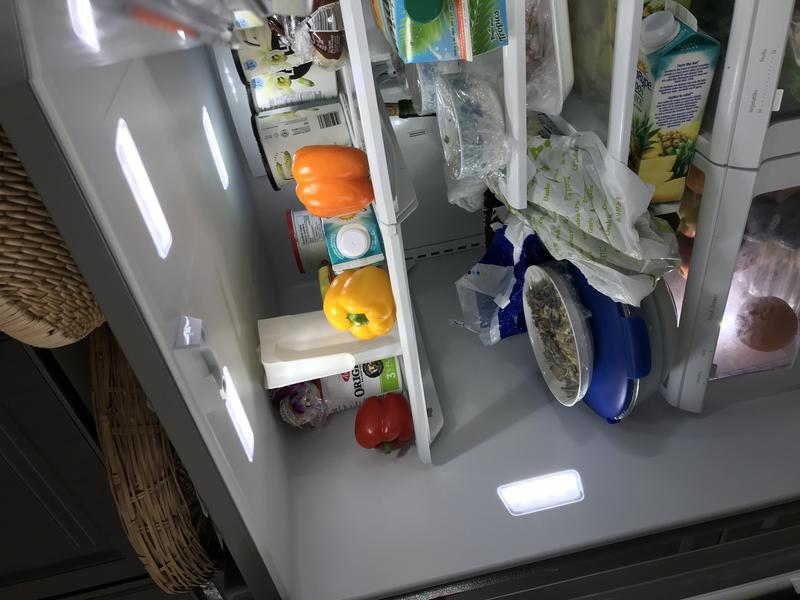orange_pepper: (287, 138, 379, 224)
red_pepper: (351, 388, 416, 459)
yellow_pepper: (314, 265, 400, 345)
